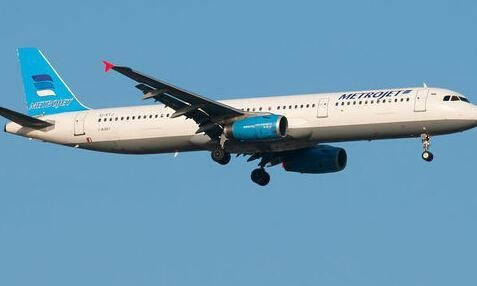airplane: (1, 47, 477, 184)
